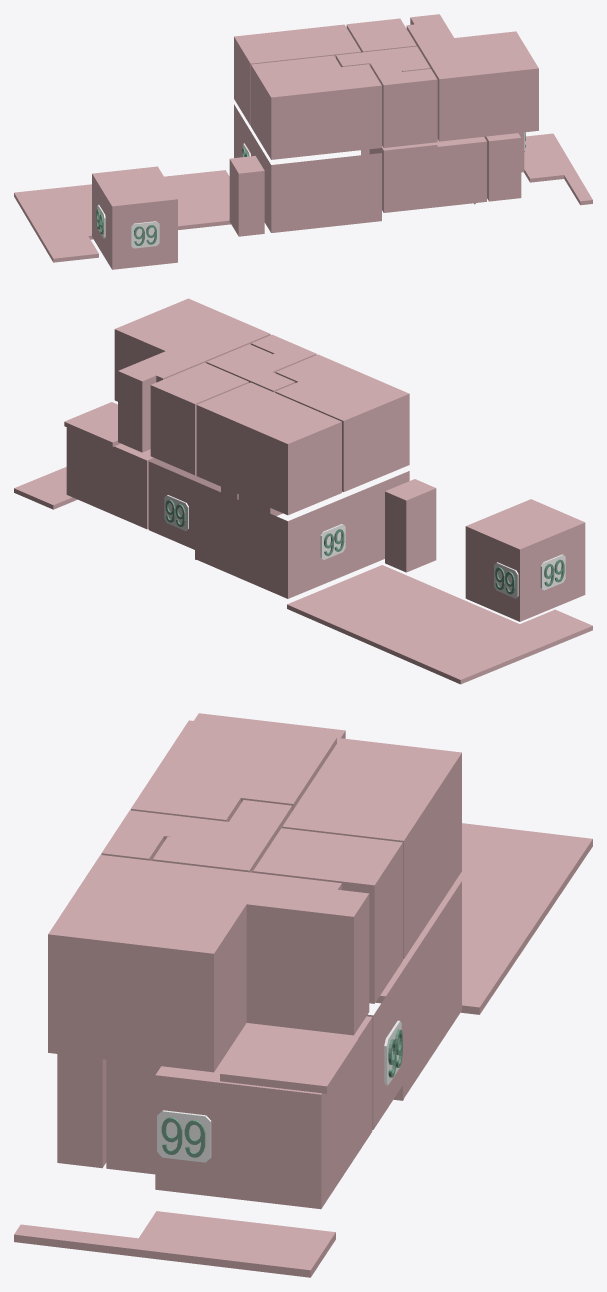
3 views of the same model, one above another, from view 1: azimuth 30°, elevation 25°; view 2: azimuth 150°, elevation 25°; view 3: azimuth 270°, elevation 25° (orthographic). The views are drawn at different scales.
Visible parts, largest first — view 1: g_6, g_8, g_1, g_13, g_2, g_5, g_7, g_11, g_4, g_14, g_3, g_10 (+2 smaller); view 2: g_1, g_13, g_7, g_5, g_8, g_6, g_0, g_10, g_4, g_9, g_12, g_14 (+5 smaller); view 3: g_8, g_0, g_7, g_13, g_6, g_14, g_1, g_10, g_12, g_9, g_2, g_3 (+3 smaller).
Part boxes in pixels (<box>): g_6: <box>251,55,381,159</box>; g_8: <box>406,14,538,141</box>; g_1: <box>234,104,381,232</box>; g_13: <box>14,170,230,262</box>; g_2: <box>369,137,486,212</box>; g_5: <box>92,166,177,269</box>; g_7: <box>234,24,361,125</box>; g_11: <box>376,69,437,147</box>; g_4: <box>229,156,264,236</box>; g_14: <box>524,133,592,205</box>; g_3: <box>484,133,521,201</box>; g_10: <box>346,18,416,52</box>; g_1: <box>148,461,409,598</box>; g_13: <box>287,565,592,684</box>; g_7: <box>196,382,341,515</box>; g_5: <box>465,499,585,621</box>; g_8: <box>114,298,270,452</box>; g_6: <box>275,354,409,492</box>; g_0: <box>66,427,220,529</box>; g_10: <box>150,362,248,475</box>; g_4: <box>385,479,436,572</box>; g_9: <box>206,344,295,392</box>; g_12: <box>64,402,120,446</box>; g_14: <box>14,467,77,509</box>; g_8: <box>48,855,369,1072</box>; g_0: <box>155,1016,372,1209</box>; g_7: <box>282,738,461,959</box>; g_13: <box>375,823,592,1014</box>; g_6: <box>130,720,336,821</box>; g_14: <box>14,1211,335,1277</box>; g_1: <box>367,881,461,1129</box>; g_10: <box>253,828,402,1003</box>; g_12: <box>220,1027,357,1093</box>; g_9: <box>152,800,292,872</box>; g_2: <box>106,1059,160,1174</box>; g_3: <box>57,1054,106,1168</box>.
Bounding box in the file's own units: 20.15 × 5.35 × 10.56.
